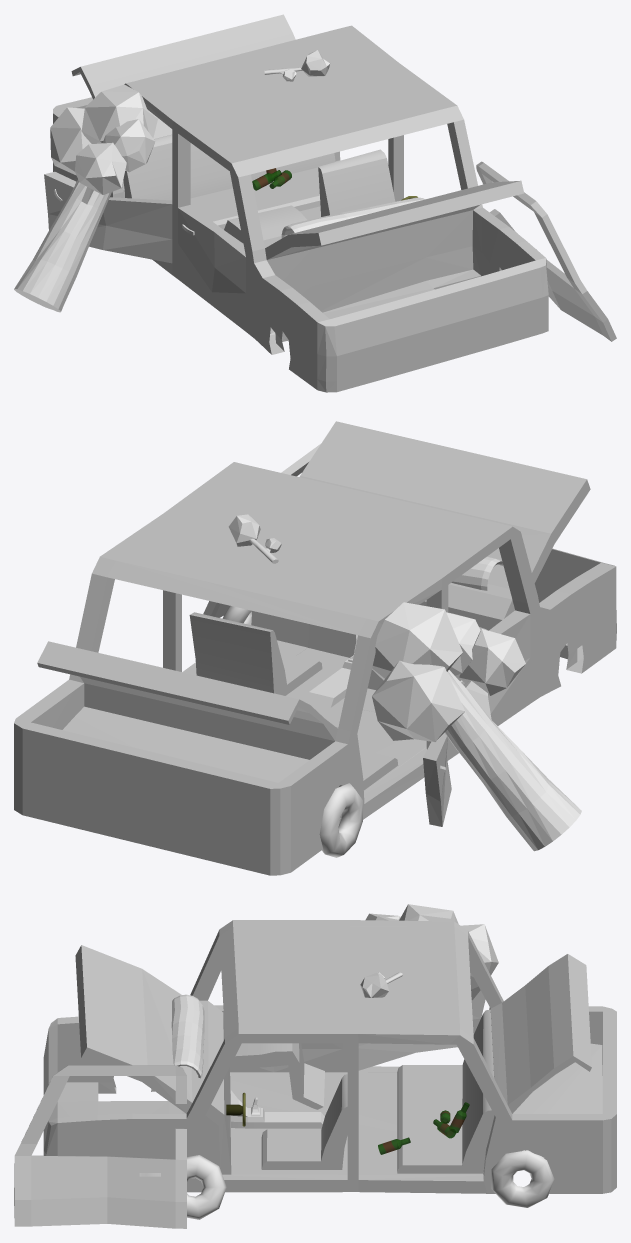
Rendered from Car.fbx.
3 views of the same model, one above another, from view 1: azimuth 30°, elevation 25°; view 2: azimuth 150°, elevation 25°; view 3: azimuth 270°, elevation 25° (orthographic). The views are drawn at different scales.
Visible parts, largest first — view 1: Box001, Box010, Cylinder003, Box019, Box013, GeoSphere004, GeoSphere003, GeoSphere007, GeoSphere006, Box014, Cylinder004, GeoSphere001; view 2: Box001, Cylinder003, Box013, GeoSphere007, GeoSphere004, GeoSphere003, Torus002, Box011, GeoSphere006, Box010, Cylinder004, GeoSphere001 (+1 smaller); view 3: Box001, Box019, Box010, Box013, Box014, Torus003, Cylinder004, Torus006, Box011, GeoSphere007, GeoSphere004, GeoSphere001.
Part boxes in pixels (left/top/right/bottom): Box001: left=44, top=14, right=548, bottom=392; Box010: left=123, top=135, right=335, bottom=229; Cylinder003: left=14, top=179, right=111, bottom=312; Box019: left=476, top=161, right=616, bottom=341; Box013: left=318, top=149, right=395, bottom=216; GeoSphere004: left=81, top=84, right=157, bottom=143; GeoSphere003: left=75, top=142, right=126, bottom=194; GeoSphere007: left=50, top=107, right=91, bottom=175; GeoSphere006: left=103, top=119, right=155, bottom=172; Box014: left=224, top=205, right=306, bottom=243; Cylinder004: left=281, top=197, right=424, bottom=238; GeoSphere001: left=301, top=50, right=329, bottom=76; Box001: left=14, top=421, right=616, bottom=875; Cylinder003: left=444, top=670, right=581, bottom=851; Box013: left=189, top=612, right=322, bottom=695; GeoSphere007: left=372, top=660, right=464, bottom=741; GeoSphere004: left=372, top=602, right=462, bottom=680; GeoSphere003: left=459, top=629, right=525, bottom=695; Torus002: left=319, top=783, right=362, bottom=857; Box011: left=306, top=635, right=357, bottom=707; GeoSphere006: left=446, top=612, right=480, bottom=675; Box010: left=336, top=727, right=398, bottom=790; Cylinder004: left=451, top=556, right=503, bottom=590; GeoSphere001: left=228, top=514, right=260, bottom=546; Box001: left=43, top=920, right=616, bottom=1193; Box019: left=14, top=1065, right=186, bottom=1228; Box010: left=397, top=1009, right=494, bottom=1173; Box013: left=261, top=1074, right=347, bottom=1169; Box014: left=230, top=1043, right=324, bottom=1109; Torus003: left=491, top=1150, right=554, bottom=1207; Cylinder004: left=171, top=994, right=204, bottom=1078; Torus006: left=187, top=1155, right=226, bottom=1219; Box011: left=231, top=1090, right=324, bottom=1128; GeoSphere007: left=461, top=924, right=498, bottom=1000; GeoSphere004: left=399, top=904, right=458, bottom=923; GeoSphere001: left=360, top=972, right=388, bottom=997.
Size of the model in its own units: 94.76 by 44.42 by 117.
